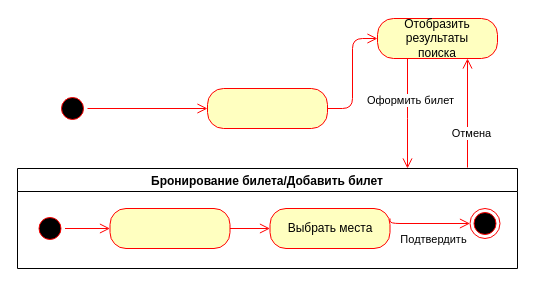
The diagram is 535 pixels wide and 286 high, and some of its shapes have lost their labels. The shapes that lost their labels are listed below. From the top down, each one's box as (x1, y1, x2, y2) in pixels, then its label:
(206, 88, 328, 128): Ввести критерии поиска
(109, 208, 230, 248): Выбрать вагон
